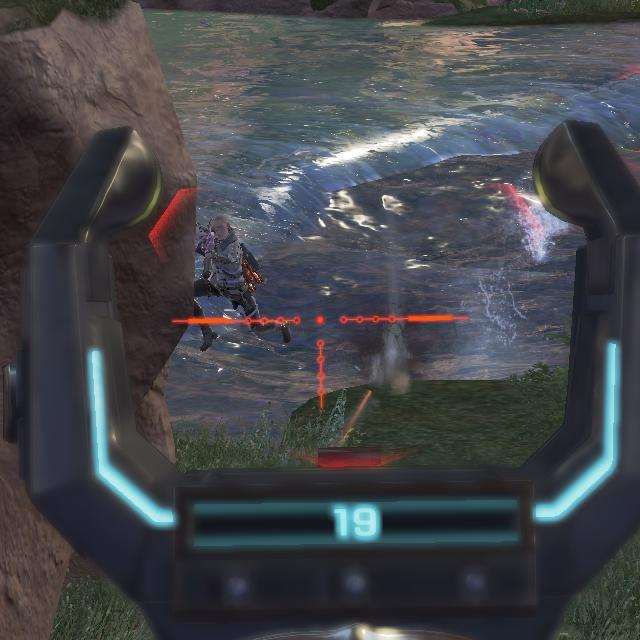avatar: (195, 208, 265, 353)
